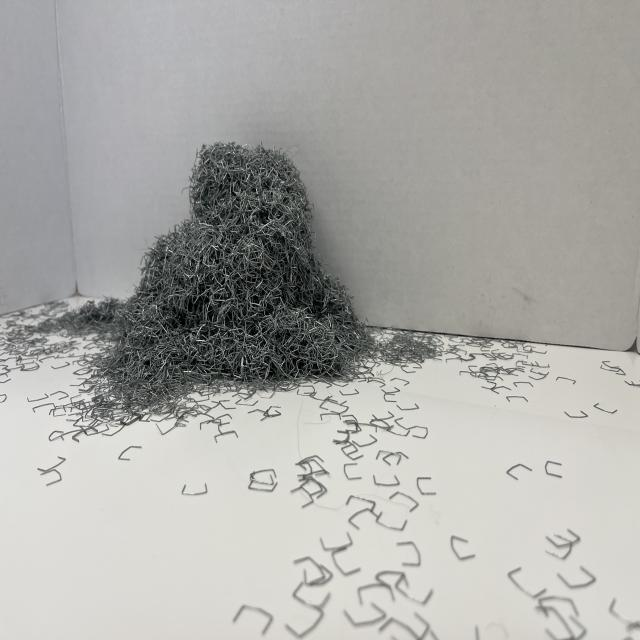staples: (92, 138, 374, 414)
